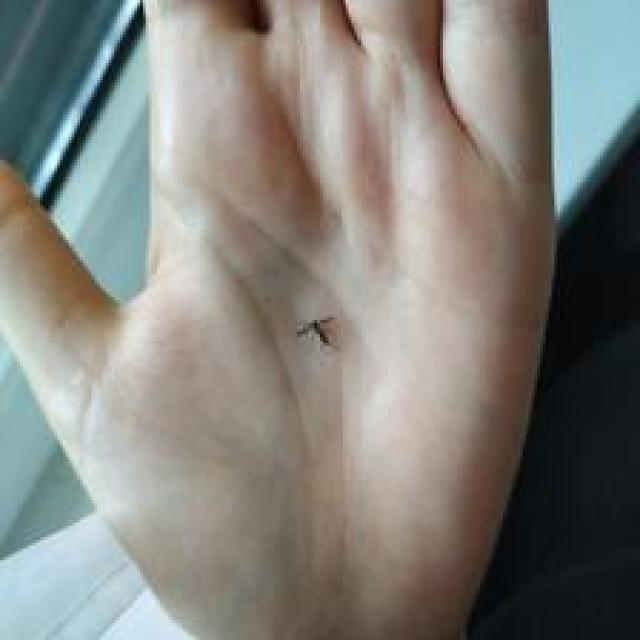Aedes albopictus: (293, 314, 341, 354)
